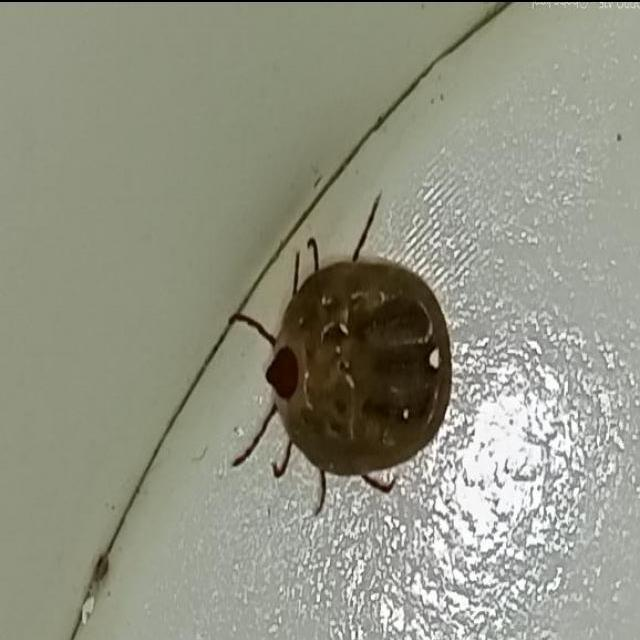Rhipicephalus Sanguineus-F-Fed: (225, 187, 452, 517)
